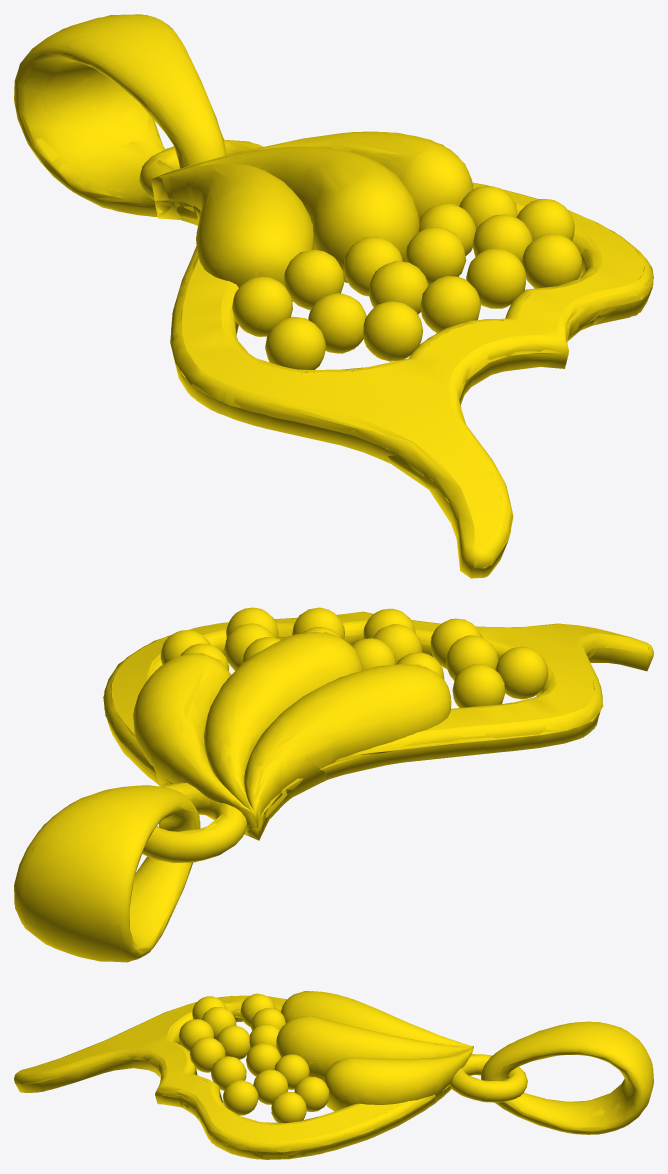
3 renders of one model, top to bottom at view 1: azimuth 30°, elevation 25°; view 2: azimuth 150°, elevation 25°; view 3: azimuth 270°, elevation 25°, orthographic. The views are drawn at different scales.
Parts seen in each view (by area): view 1: highPolyMesh, lowPolyMesh; view 2: highPolyMesh, lowPolyMesh; view 3: highPolyMesh, lowPolyMesh.
Boxes of the visible parts, left/top/right/bottom form: highPolyMesh: left=14, top=14, right=653, bottom=578; lowPolyMesh: left=14, top=15, right=653, bottom=578; highPolyMesh: left=14, top=607, right=653, bottom=961; lowPolyMesh: left=14, top=607, right=653, bottom=962; highPolyMesh: left=14, top=991, right=653, bottom=1159; lowPolyMesh: left=14, top=991, right=653, bottom=1159.
Size of the model in its own units: 0.0141 by 0.00519 by 0.0275.
